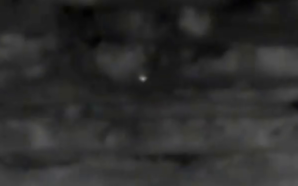Target: (140, 76, 147, 82)
